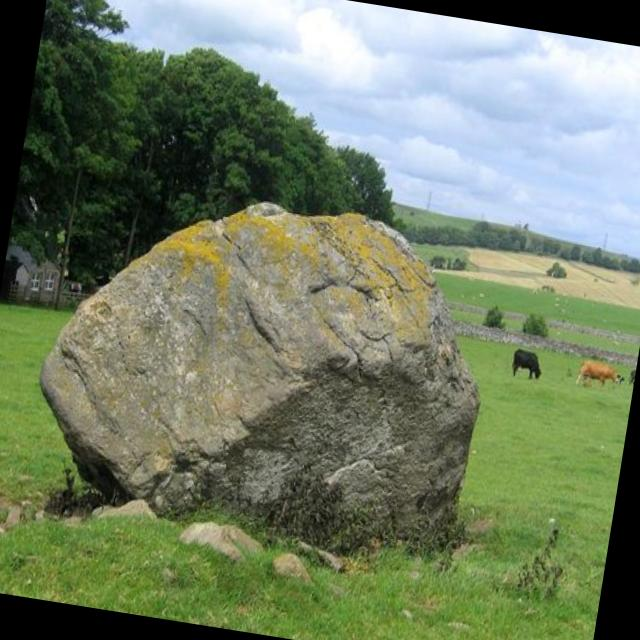grass: (0, 336, 633, 640), (438, 274, 640, 333), (550, 327, 640, 355), (453, 308, 482, 322), (506, 318, 522, 329)
rocks: (41, 203, 479, 546)
stone: (180, 521, 265, 559), (300, 542, 344, 571), (94, 500, 158, 519), (275, 553, 310, 579)
